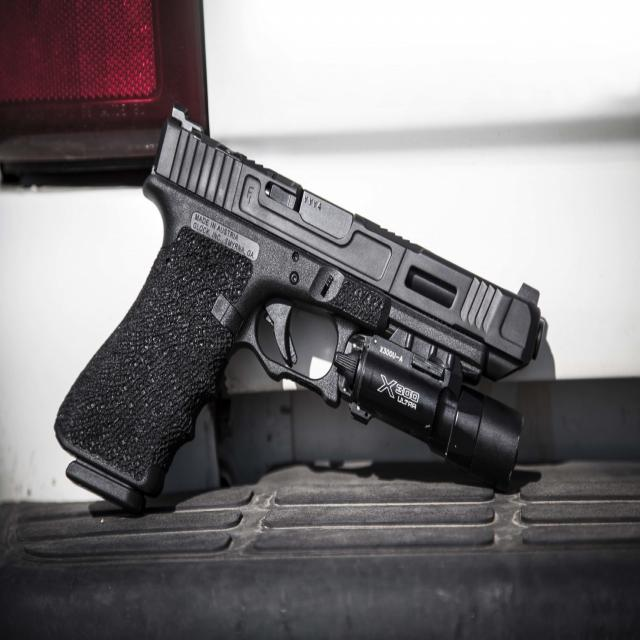weapon: (53, 92, 549, 516)
